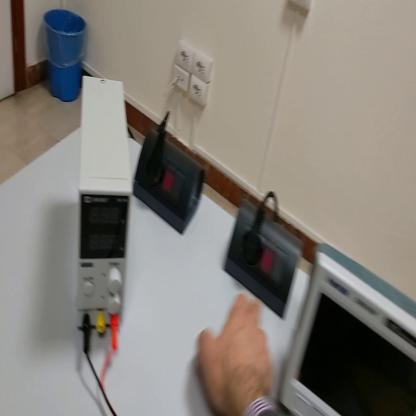hand: (196, 294, 275, 415)
oscilloscope: (279, 229, 416, 416)
power supply: (76, 73, 132, 336)
socket: (222, 200, 303, 322), (136, 122, 206, 237)
